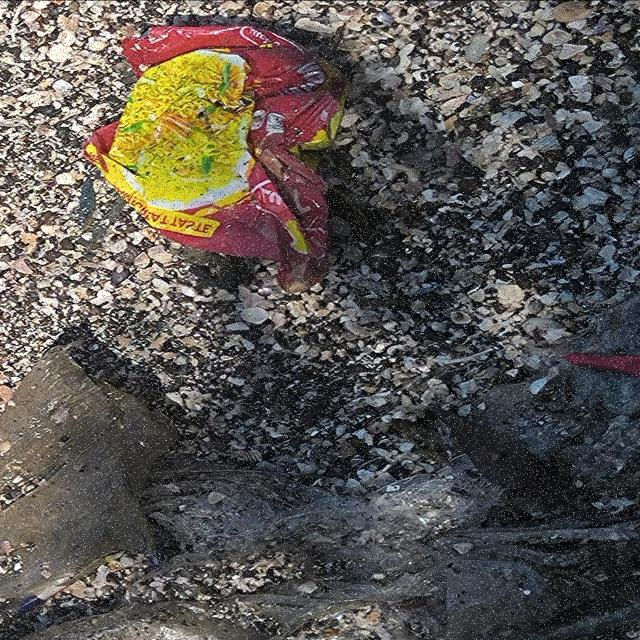plastic_waste: (80, 25, 354, 295)
